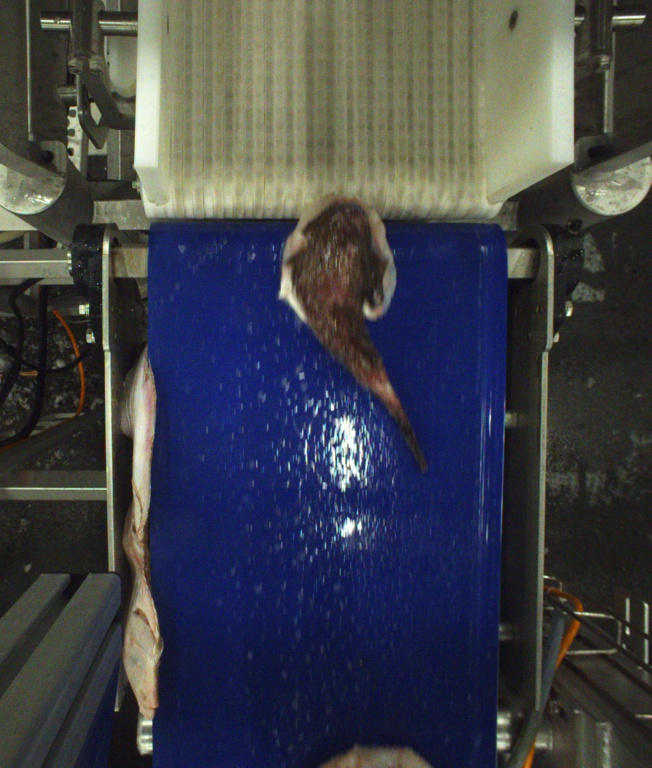ANF: (277, 193, 436, 485)
